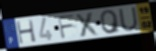4: (38, 16, 54, 43)
F: (56, 14, 77, 40)
H: (15, 19, 38, 45)
Q: (99, 9, 122, 35)
U: (117, 6, 140, 32)
X: (74, 11, 101, 38)
